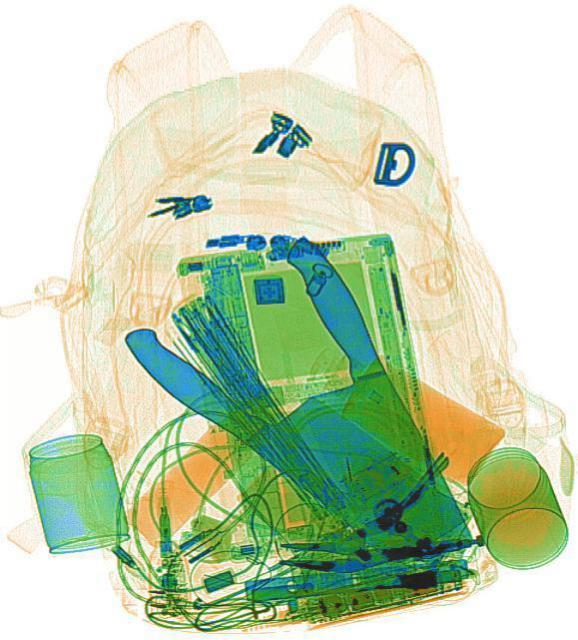Knife: (112, 278, 470, 582), (227, 227, 472, 585)
